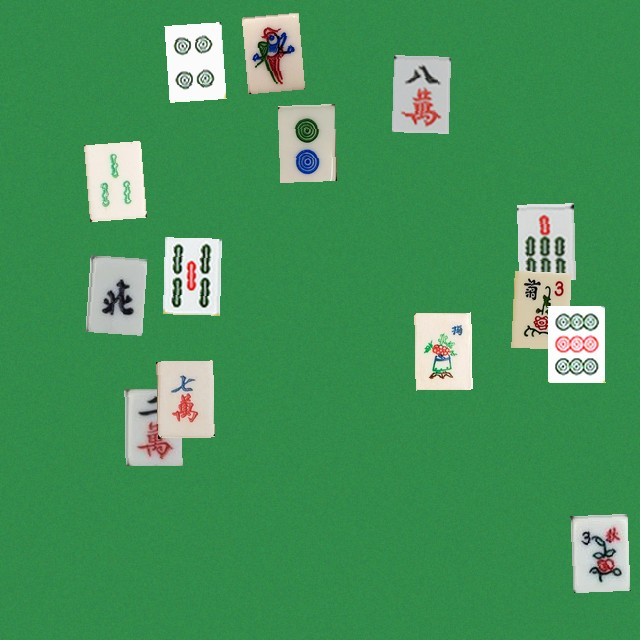tile: (277, 104, 334, 181), (516, 203, 573, 280), (511, 270, 568, 347), (164, 22, 221, 99), (124, 388, 181, 465), (156, 360, 213, 437), (241, 12, 298, 89), (570, 513, 627, 590), (414, 312, 471, 389), (162, 237, 219, 314), (83, 140, 140, 217), (85, 255, 142, 332), (391, 55, 448, 132), (547, 305, 604, 382)
